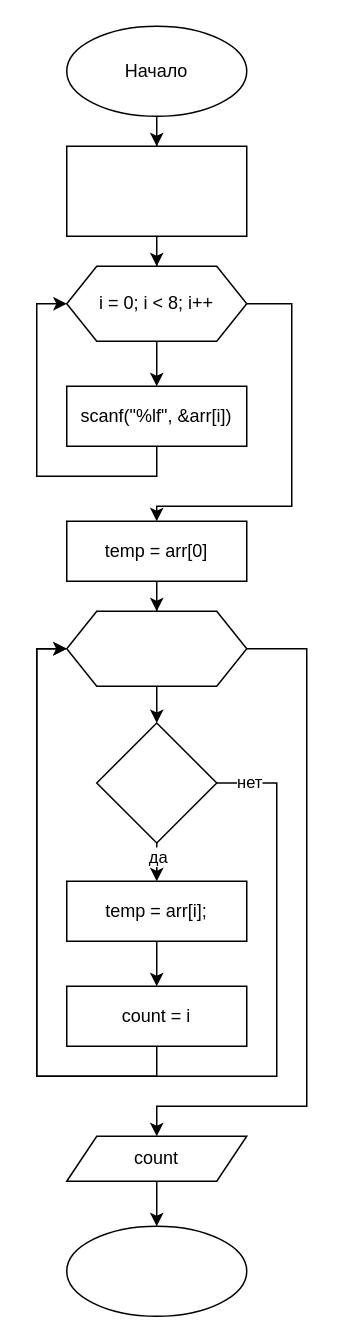
The diagram is 345 pixels wide and 1343 high, and some of its shapes have lost their labels. The box of each missing label's shape, as (x1, y1, x2, y2) in pixels:
count = 0: (65, 145, 247, 236)
i = 1; i < 8; i++: (65, 610, 247, 686)
temp > arr[i]: (95, 722, 217, 843)
Конец: (65, 1225, 247, 1316)
